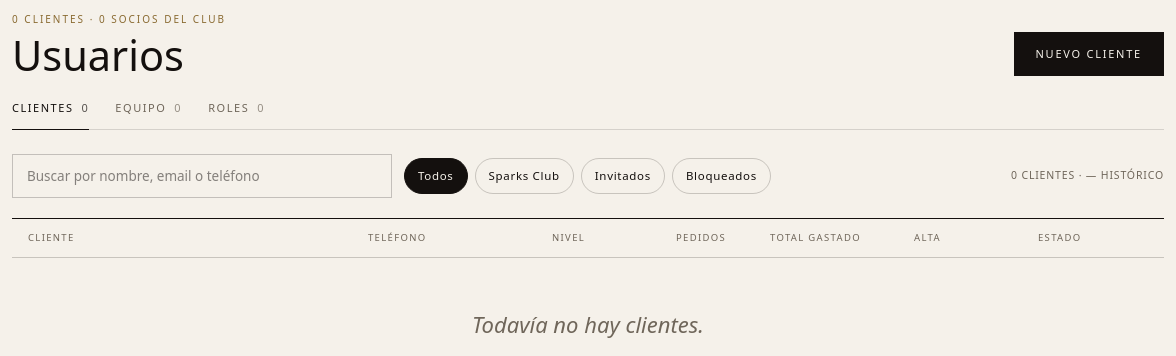
Test case: users screen › shows both tabs, an empty client list and an empty team
The image size is (1176, 356).
Expected: the text "Todavía no hay clientes." is shown, [472,310,704,340]
Expected: the heading "Usuarios" is shown, [12,27,184,83]
What coordinates should you click on to do the following:
click the button "Equipo 0"
I would click on:
 (149, 115)
Its box is [115,100,182,130].
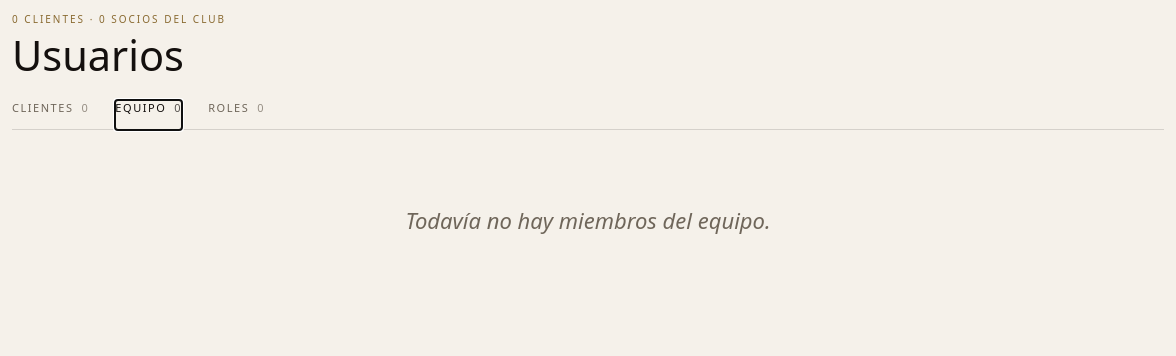
Expected: the text "Todavía no hay miembros del equipo." is shown, [405,205,771,235]
Expected: the button "Nuevo cliente" is gone
